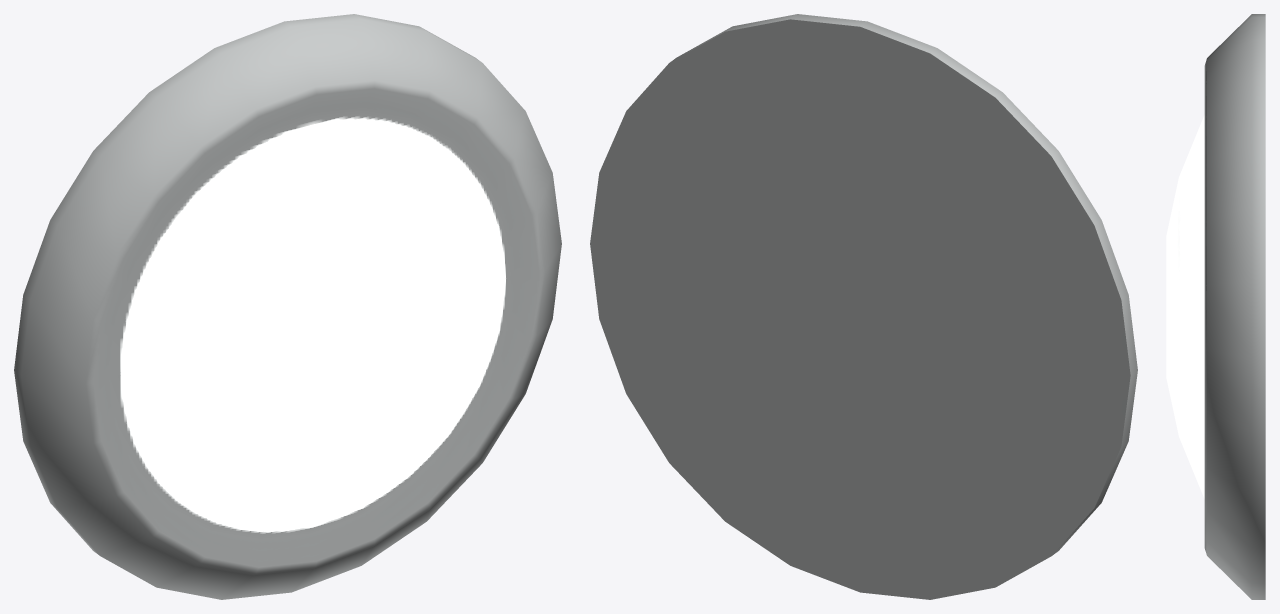
The model's file is PoolLight01_3.FBX.
The picture shows the model from 3 angles, left to right: view 1: azimuth 30°, elevation 25°; view 2: azimuth 150°, elevation 25°; view 3: azimuth 270°, elevation 25°; orthographic projection. The views are drawn at different scales.
Visible parts, largest first — view 1: PoolLight01_3; view 2: PoolLight01_3; view 3: PoolLight01_3.
Part boxes in pixels (box(x1,y1,x2,y2)): PoolLight01_3: box(14, 14, 561, 599); PoolLight01_3: box(590, 14, 1137, 599); PoolLight01_3: box(1166, 14, 1265, 599).
Size of what is drawn, in the model's own units: 0.2 by 0.2 by 0.0338.
